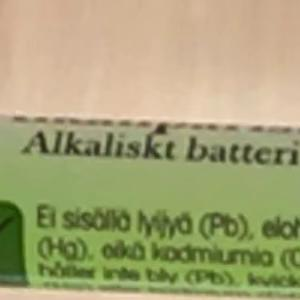ALK: (12, 121, 73, 163)
